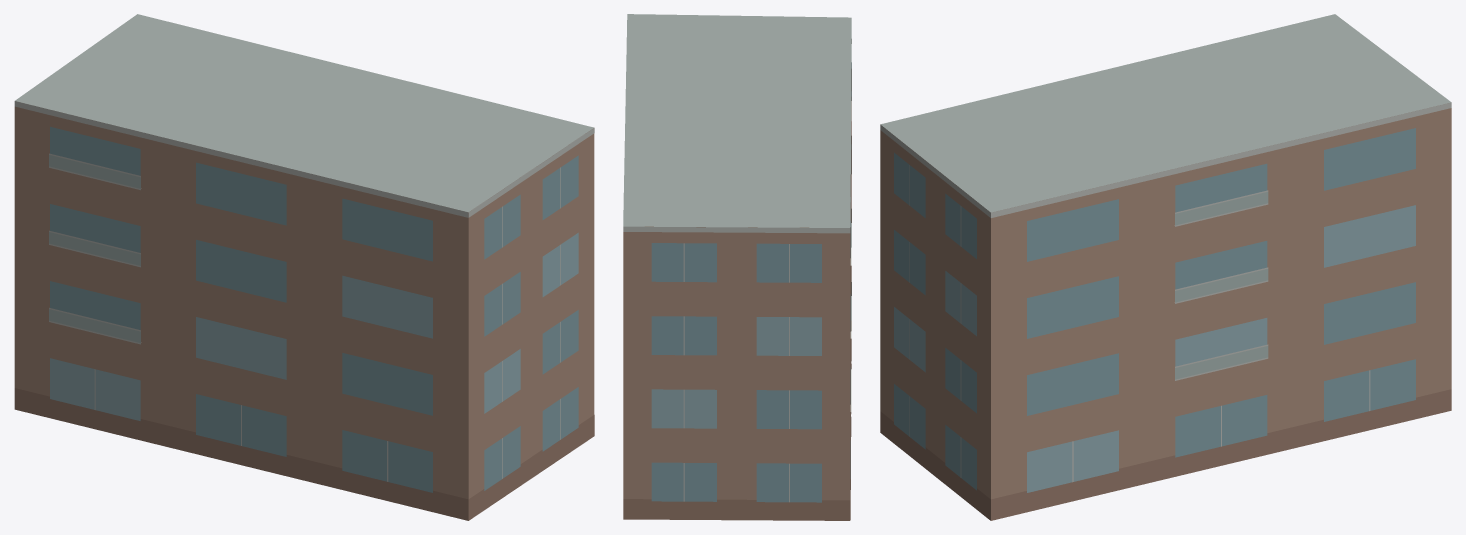
File: survey-upis-32559049.glb
3 views of the same model, side by side, from view 1: azimuth 30°, elevation 25°; view 2: azimuth 150°, elevation 25°; view 3: azimuth 270°, elevation 25° (orthographic). The views are drawn at different scales.
Parts seen in each view (by area): view 1: survey-upis-32559049.tmp; view 2: survey-upis-32559049.tmp; view 3: survey-upis-32559049.tmp.
Boxes of the visible parts, x1,y1,x2,y2 form: survey-upis-32559049.tmp: (14, 14, 594, 520); survey-upis-32559049.tmp: (623, 14, 851, 520); survey-upis-32559049.tmp: (880, 14, 1451, 520).
Bounding box in the file's own units: 18.61 × 13.46 × 22.62.
